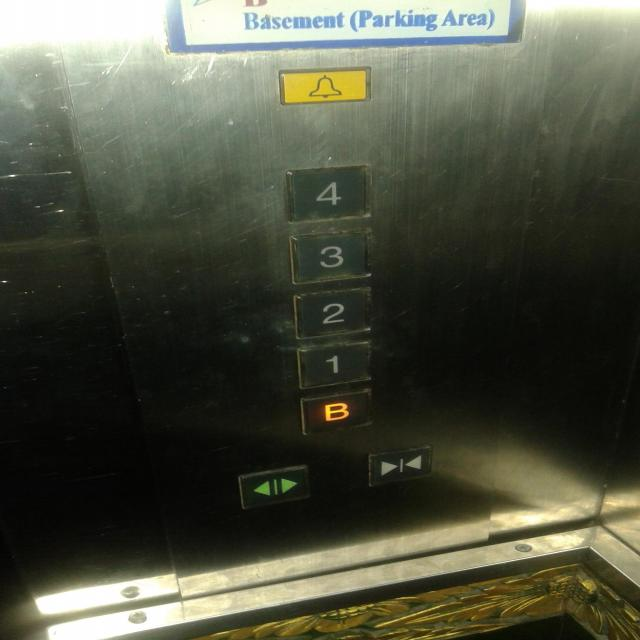1: (292, 339, 374, 391)
2: (290, 284, 376, 342)
3: (286, 226, 376, 286)
4: (282, 162, 373, 225)
B: (297, 387, 374, 436)
alarm: (274, 64, 374, 108)
close: (363, 443, 436, 489)
open: (232, 462, 314, 512)
